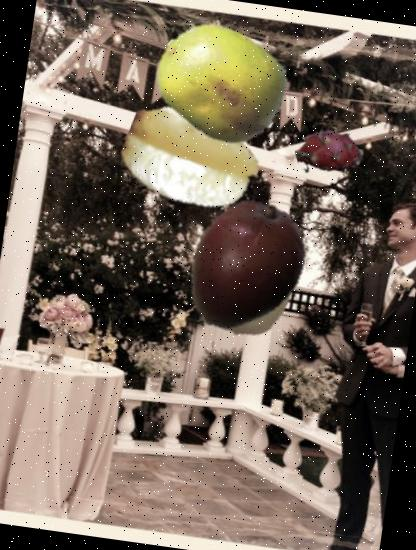Carambula: (114, 82, 268, 236)
Kiwi: (187, 218, 316, 348)
Mango: (166, 189, 322, 345)
Pitahaya: (291, 112, 366, 187)
Pomelo: (148, 7, 296, 156)
